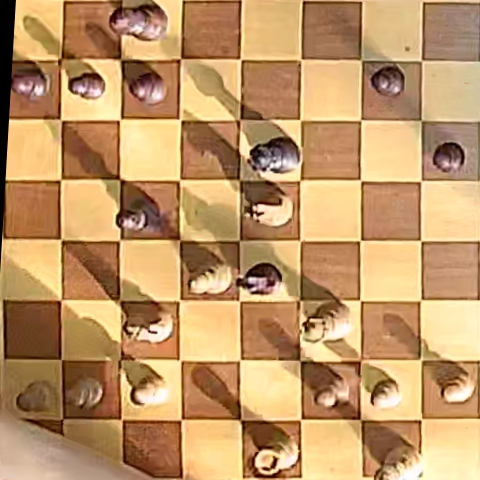black-bishop: (114, 199, 162, 233)
black-king: (110, 3, 168, 41)
black-knight: (238, 263, 282, 295)
black-pawn: (129, 72, 168, 105), (12, 70, 50, 101), (371, 65, 405, 97), (69, 72, 105, 100), (433, 142, 465, 173)
black-queen: (249, 137, 299, 173)
white-bishop: (188, 261, 234, 295)
white-king: (374, 445, 423, 480)
white-knight: (123, 303, 173, 344), (245, 193, 293, 227)
white-pawn: (363, 365, 403, 410), (129, 372, 168, 407), (66, 377, 103, 411), (17, 380, 54, 412), (313, 377, 351, 408), (442, 373, 476, 404)
white-queen: (299, 301, 352, 342)
white-rook: (247, 437, 297, 478)
